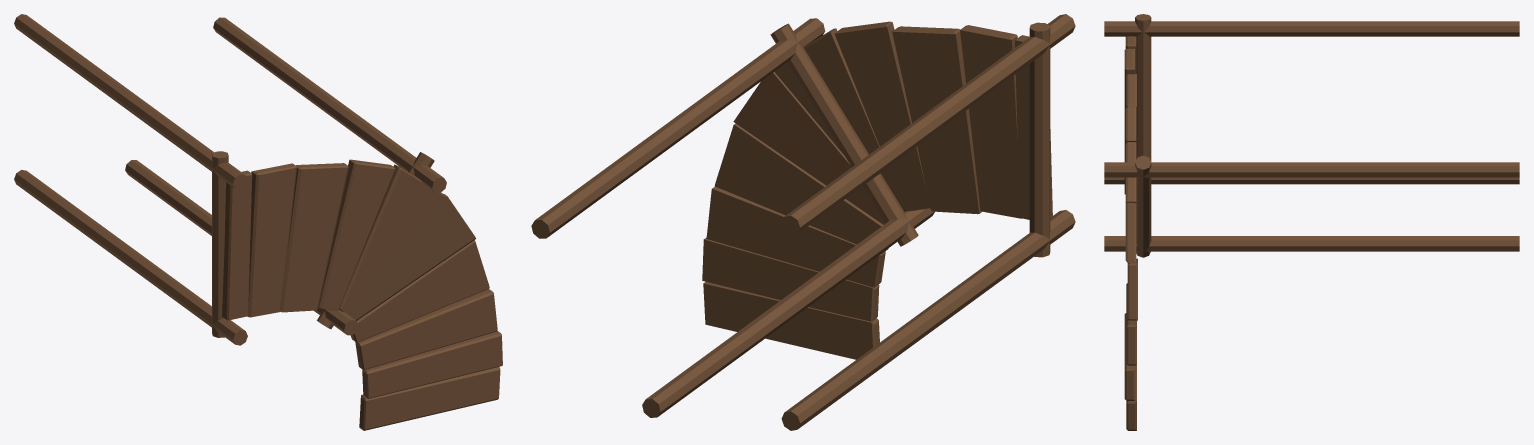
The model's file is Dock_03b_Angle.fbx.
The picture shows the model from 3 angles, left to right: view 1: azimuth 30°, elevation 25°; view 2: azimuth 150°, elevation 25°; view 3: azimuth 270°, elevation 25°; orthographic projection. The views are drawn at different scales.
Parts seen in each view (by area): view 1: ponton_3.angle.001; view 2: ponton_3.angle.001; view 3: ponton_3.angle.001.
Part boxes in pixels (x1,y1,x2,y2): ponton_3.angle.001: (14,14,502,430); ponton_3.angle.001: (531,14,1075,430); ponton_3.angle.001: (1104,14,1519,430).
Size of the model in its own units: 206 by 213 by 278.
